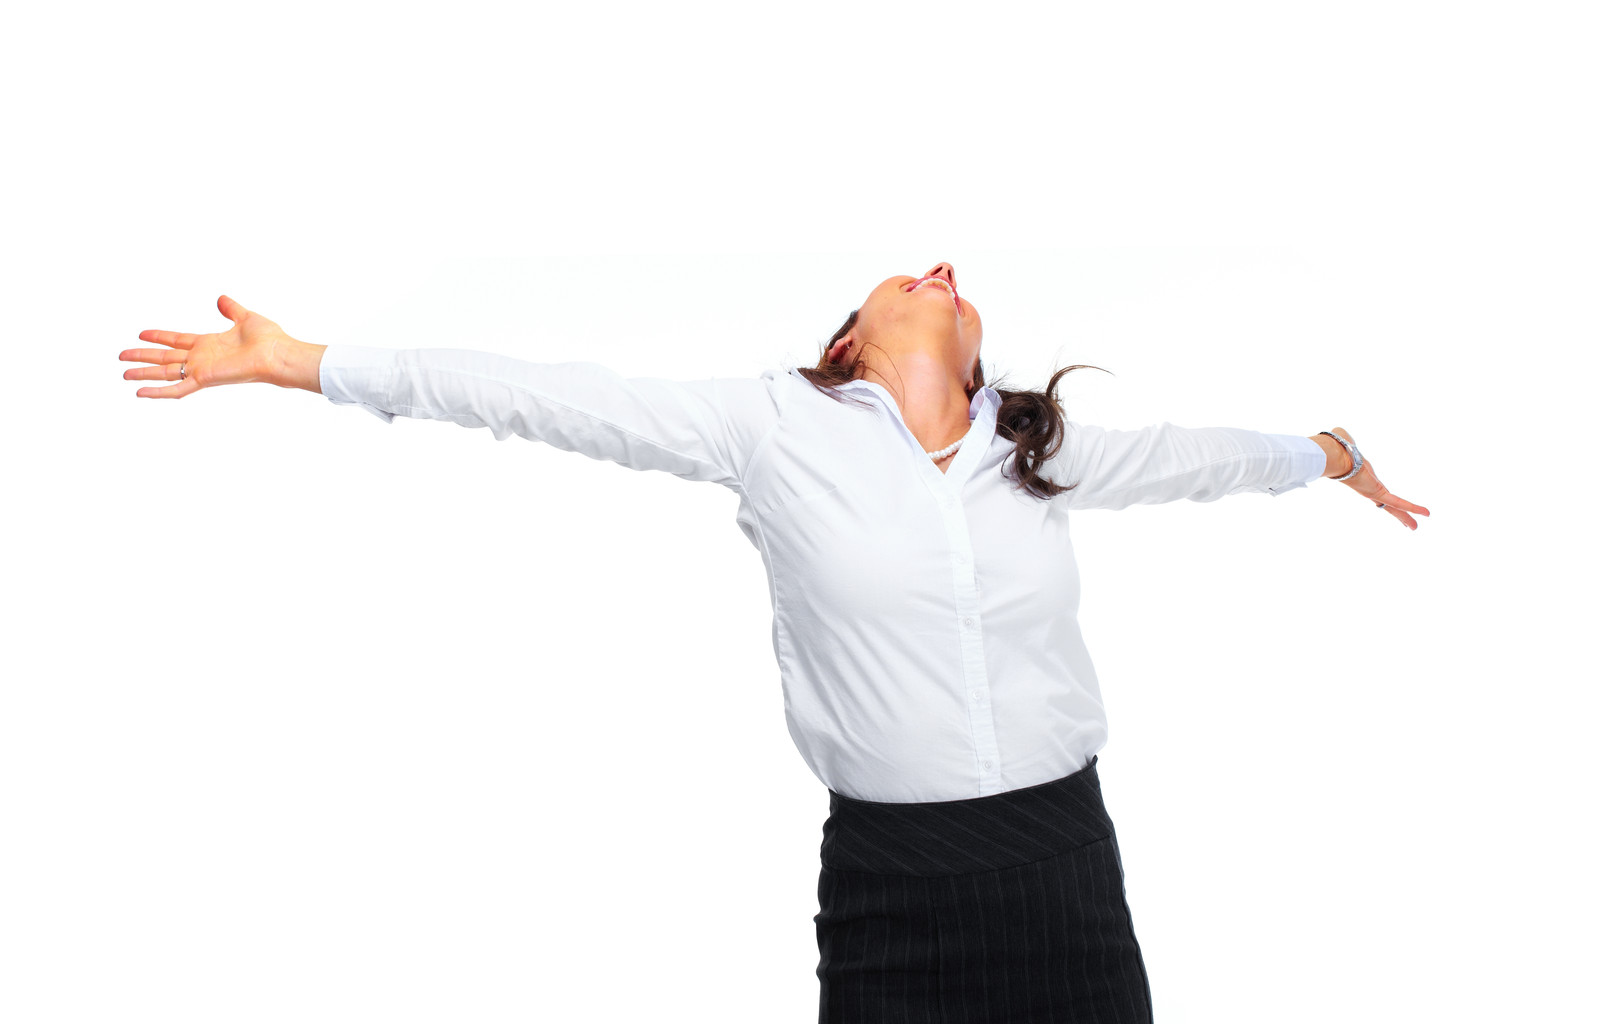human: (105, 223, 1470, 1024)
